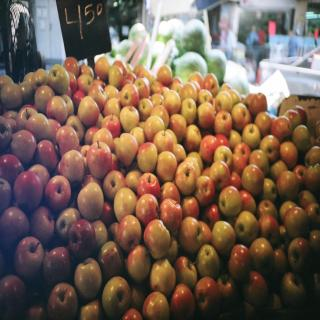Apple: (0, 55, 320, 320), (44, 177, 70, 214)
